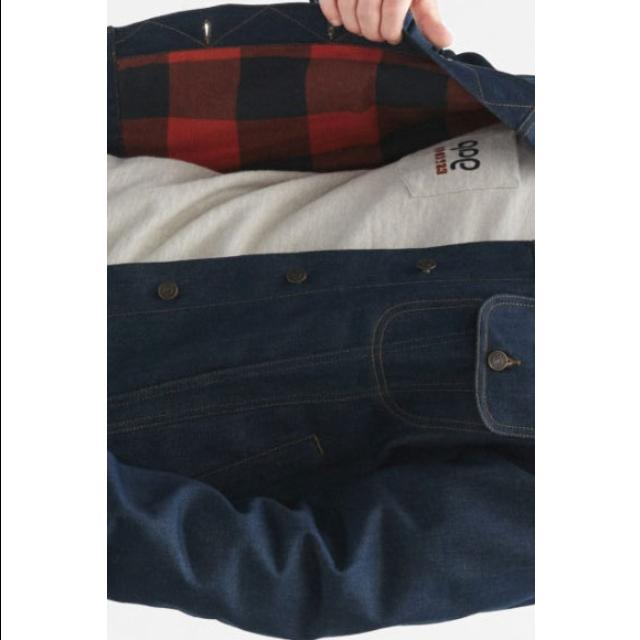denim: (106, 272, 534, 566)
